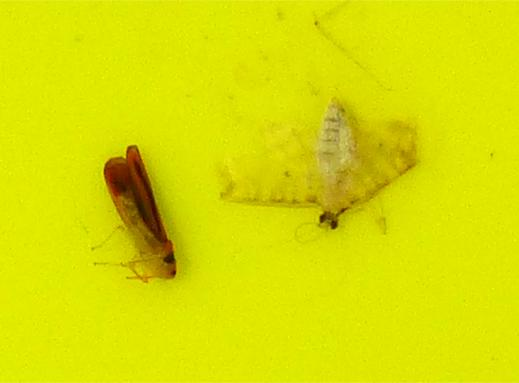Hemiptera: (100, 142, 181, 283)
Lepidoptera: (267, 100, 419, 232)
